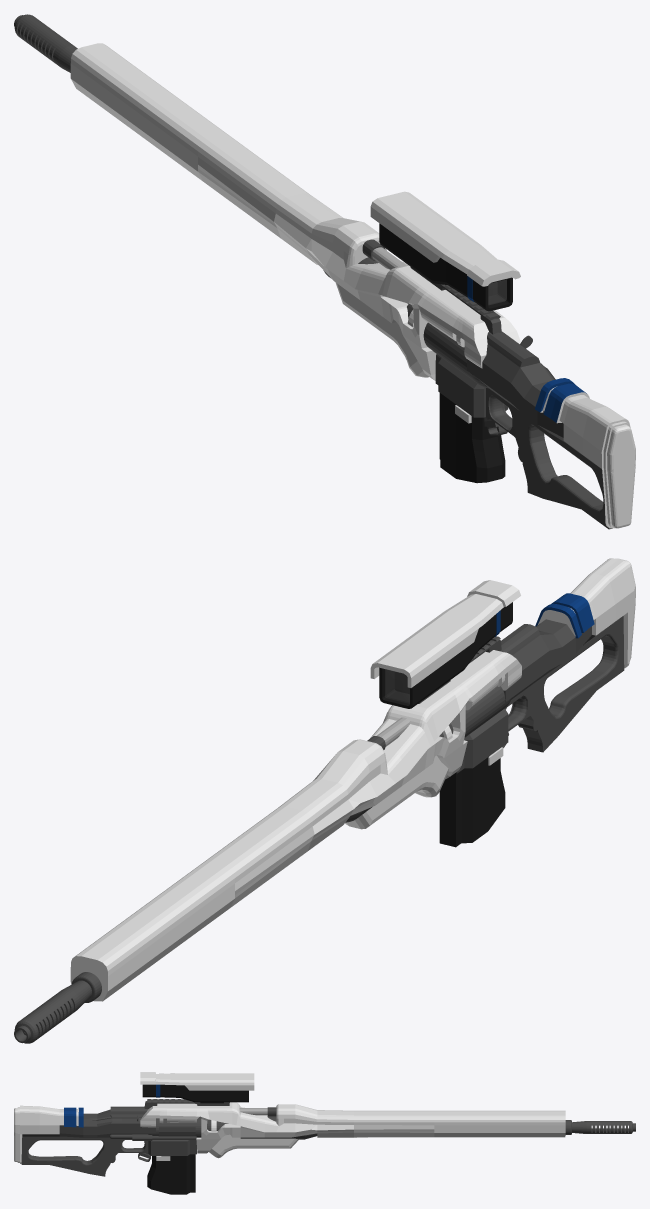
File: Guns 3 - Heavies.fbx
The picture shows the model from 3 angles, top to bottom: view 1: azimuth 30°, elevation 25°; view 2: azimuth 150°, elevation 25°; view 3: azimuth 270°, elevation 25°; orthographic projection. The views are drawn at different scales.
Parts seen in each view (by area): view 1: RearBody, BarrelShroud, FrontBody, Scope, Mag, Barrel; view 2: BarrelShroud, RearBody, FrontBody, Scope, Mag, Barrel; view 3: RearBody, BarrelShroud, FrontBody, Scope, Mag, Barrel, Slide.
Boxes of the visible parts, x1,y1,x2,y2 form: RearBody: (423, 322, 635, 529); BarrelShroud: (70, 43, 361, 279); FrontBody: (325, 221, 520, 380); Scope: (370, 191, 520, 311); Mag: (439, 393, 505, 483); Barrel: (14, 14, 413, 327); BarrelShroud: (70, 751, 376, 1001); RearBody: (456, 558, 635, 773); FrontBody: (338, 636, 521, 829); Scope: (370, 580, 520, 708); Mag: (439, 747, 505, 847); Barrel: (14, 723, 453, 1043); RearBody: (14, 1105, 201, 1176); BarrelShroud: (292, 1104, 565, 1137); FrontBody: (140, 1099, 298, 1158); Scope: (140, 1072, 254, 1103); Mag: (147, 1154, 195, 1194); Barrel: (207, 1116, 635, 1139); Slide: (121, 1115, 195, 1136).
Size of the model in its own units: 0.4098 by 1.61 by 7.86.
